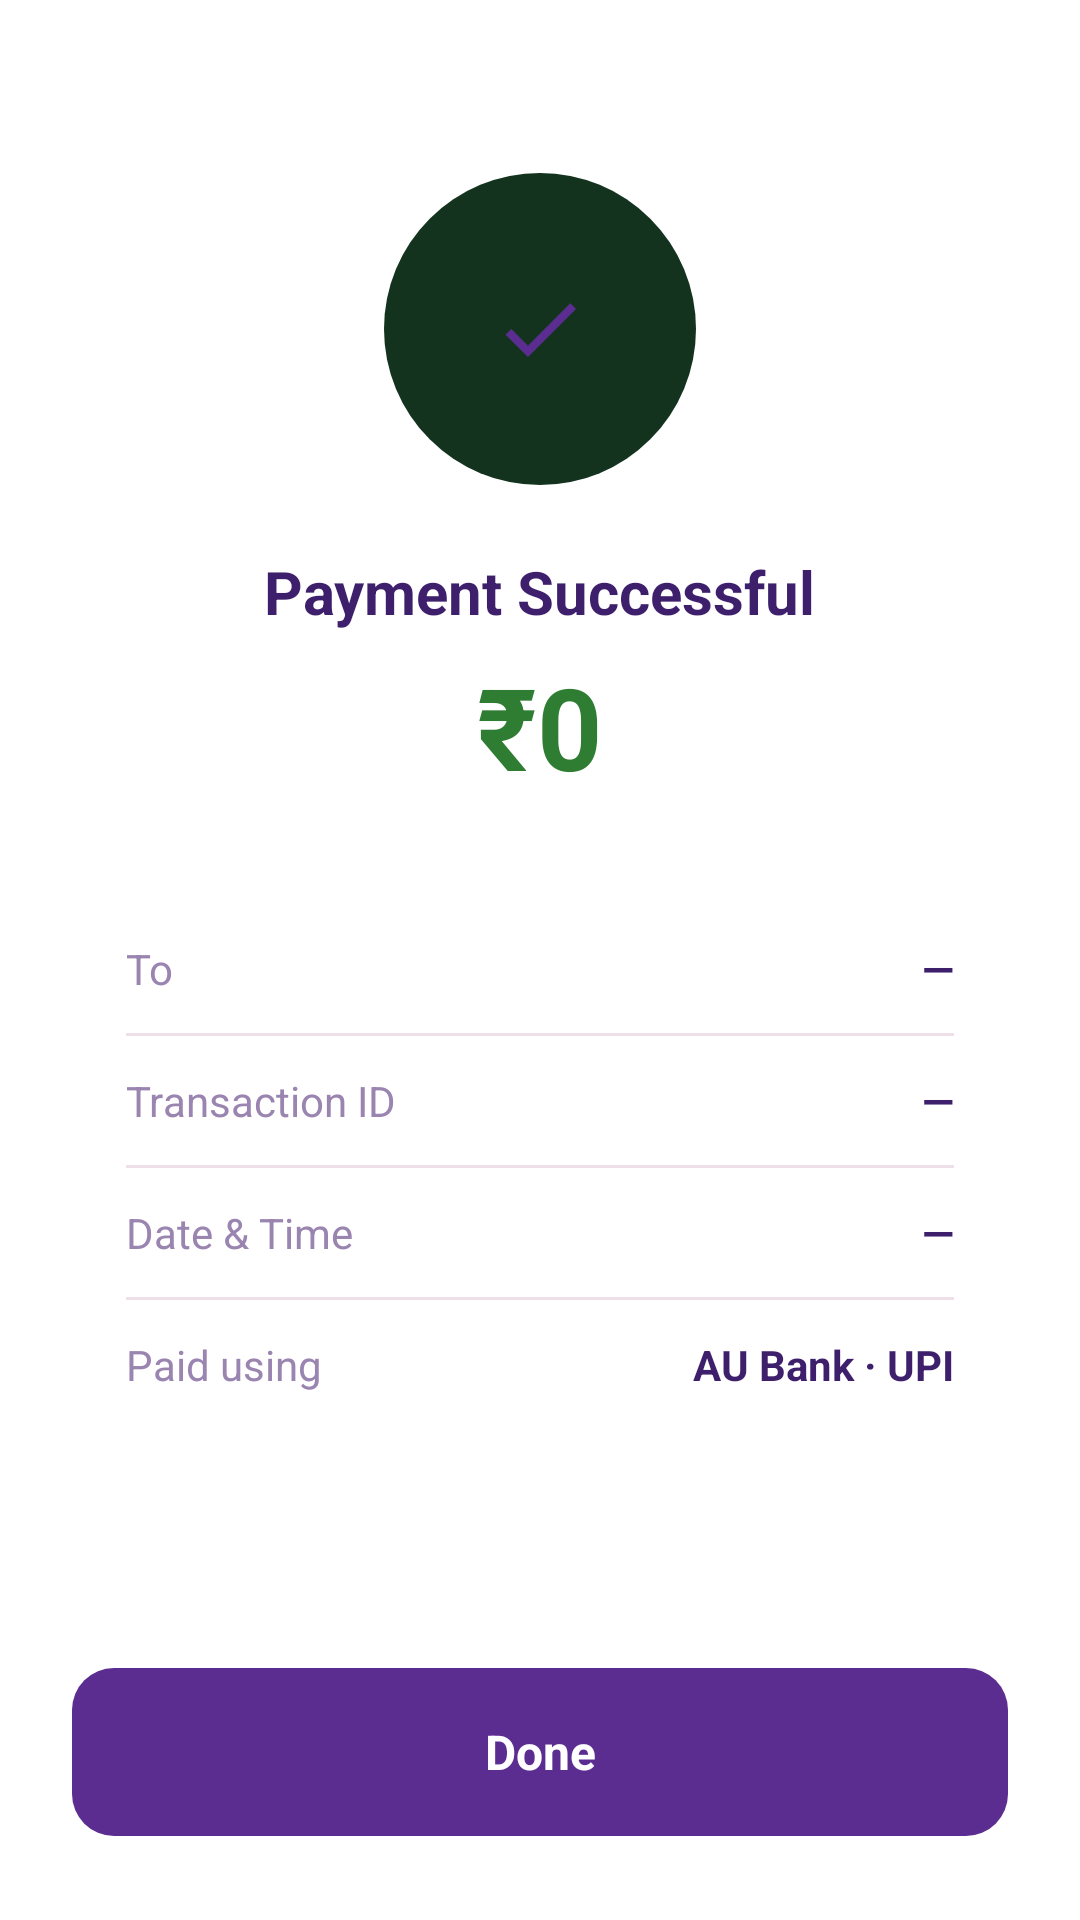

Locate icon controls on the screen. Image size 1080px×1920px, boxes as (x1, y1, x2, y2).
check: (506, 303, 576, 357)
